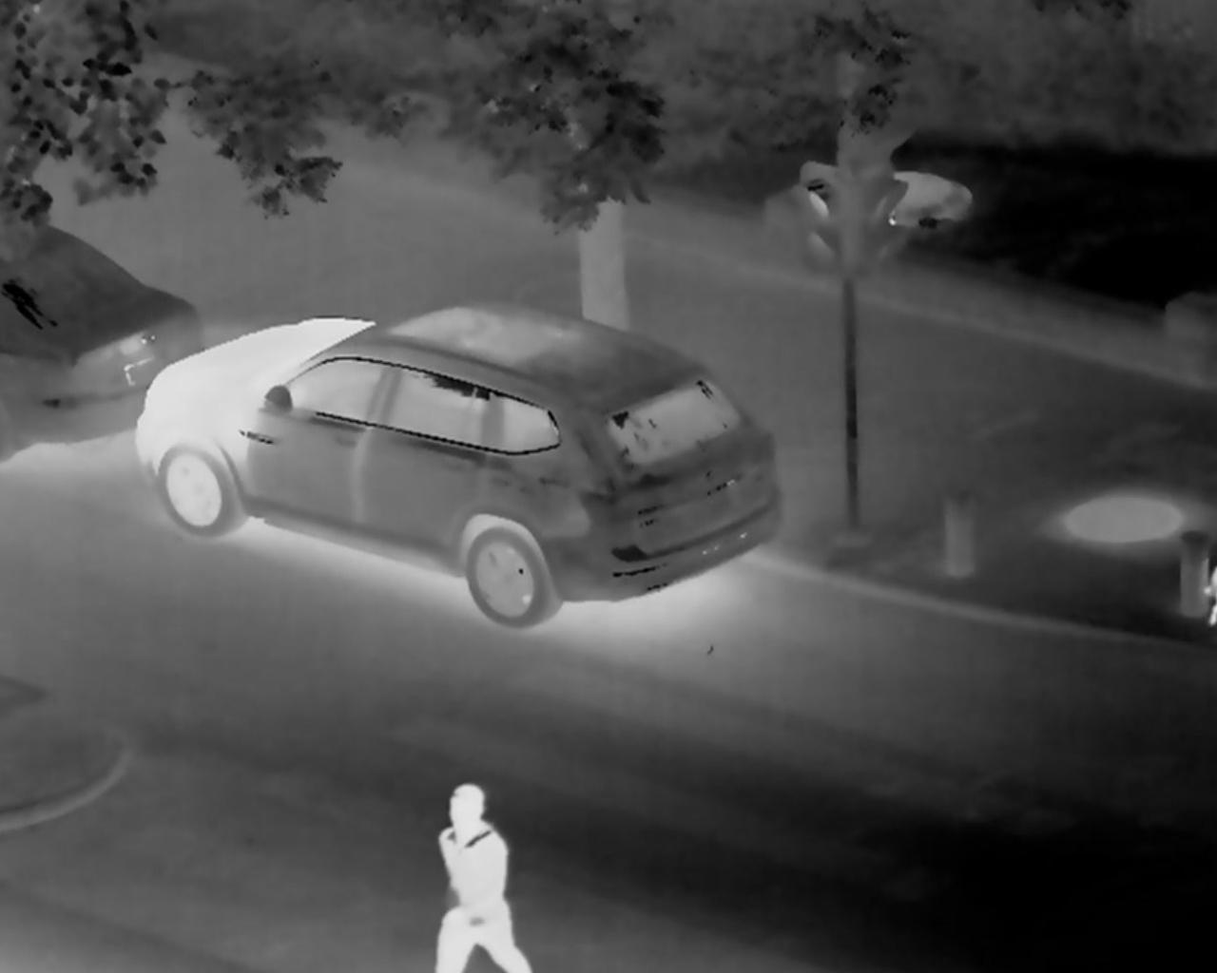person: (426, 774, 535, 973)
